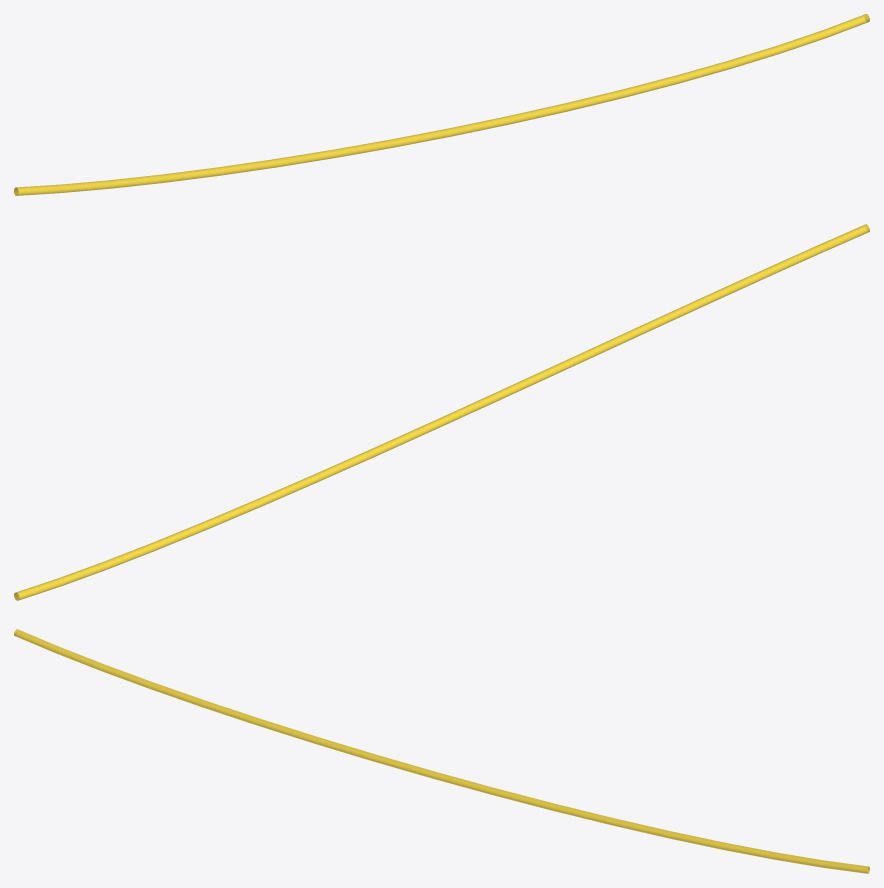
The model's file is Event_419990632_track_88.fbx.
The picture shows the model from 3 angles, top to bottom: view 1: azimuth 30°, elevation 25°; view 2: azimuth 210°, elevation 25°; view 3: azimuth 330°, elevation 25°; orthographic projection. The views are drawn at different scales.
Visible parts, largest first — view 1: Model; view 2: Model; view 3: Model.
Boxes of the visible parts, x1=… form: Model: x1=14, y1=14, x2=869, y2=195; Model: x1=14, y1=224, x2=869, y2=600; Model: x1=14, y1=629, x2=869, y2=873.
Bounding box in the file's own units: 4.9 × 0.5419 × 0.6405.
